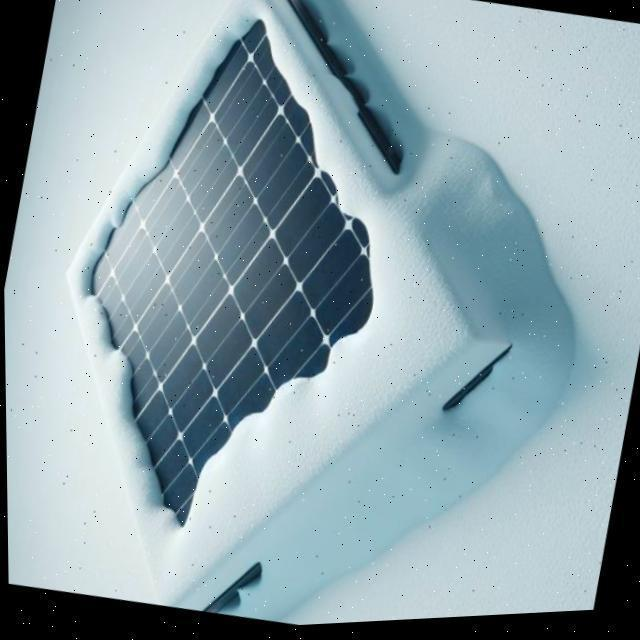Anomaly Solar Panel: (3, 0, 526, 609)
Snow: (3, 0, 526, 608), (3, 19, 469, 528)
